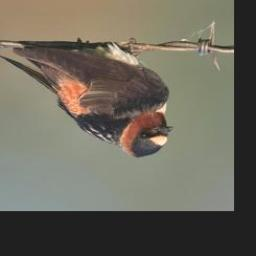Swallow: (0, 38, 174, 160)
